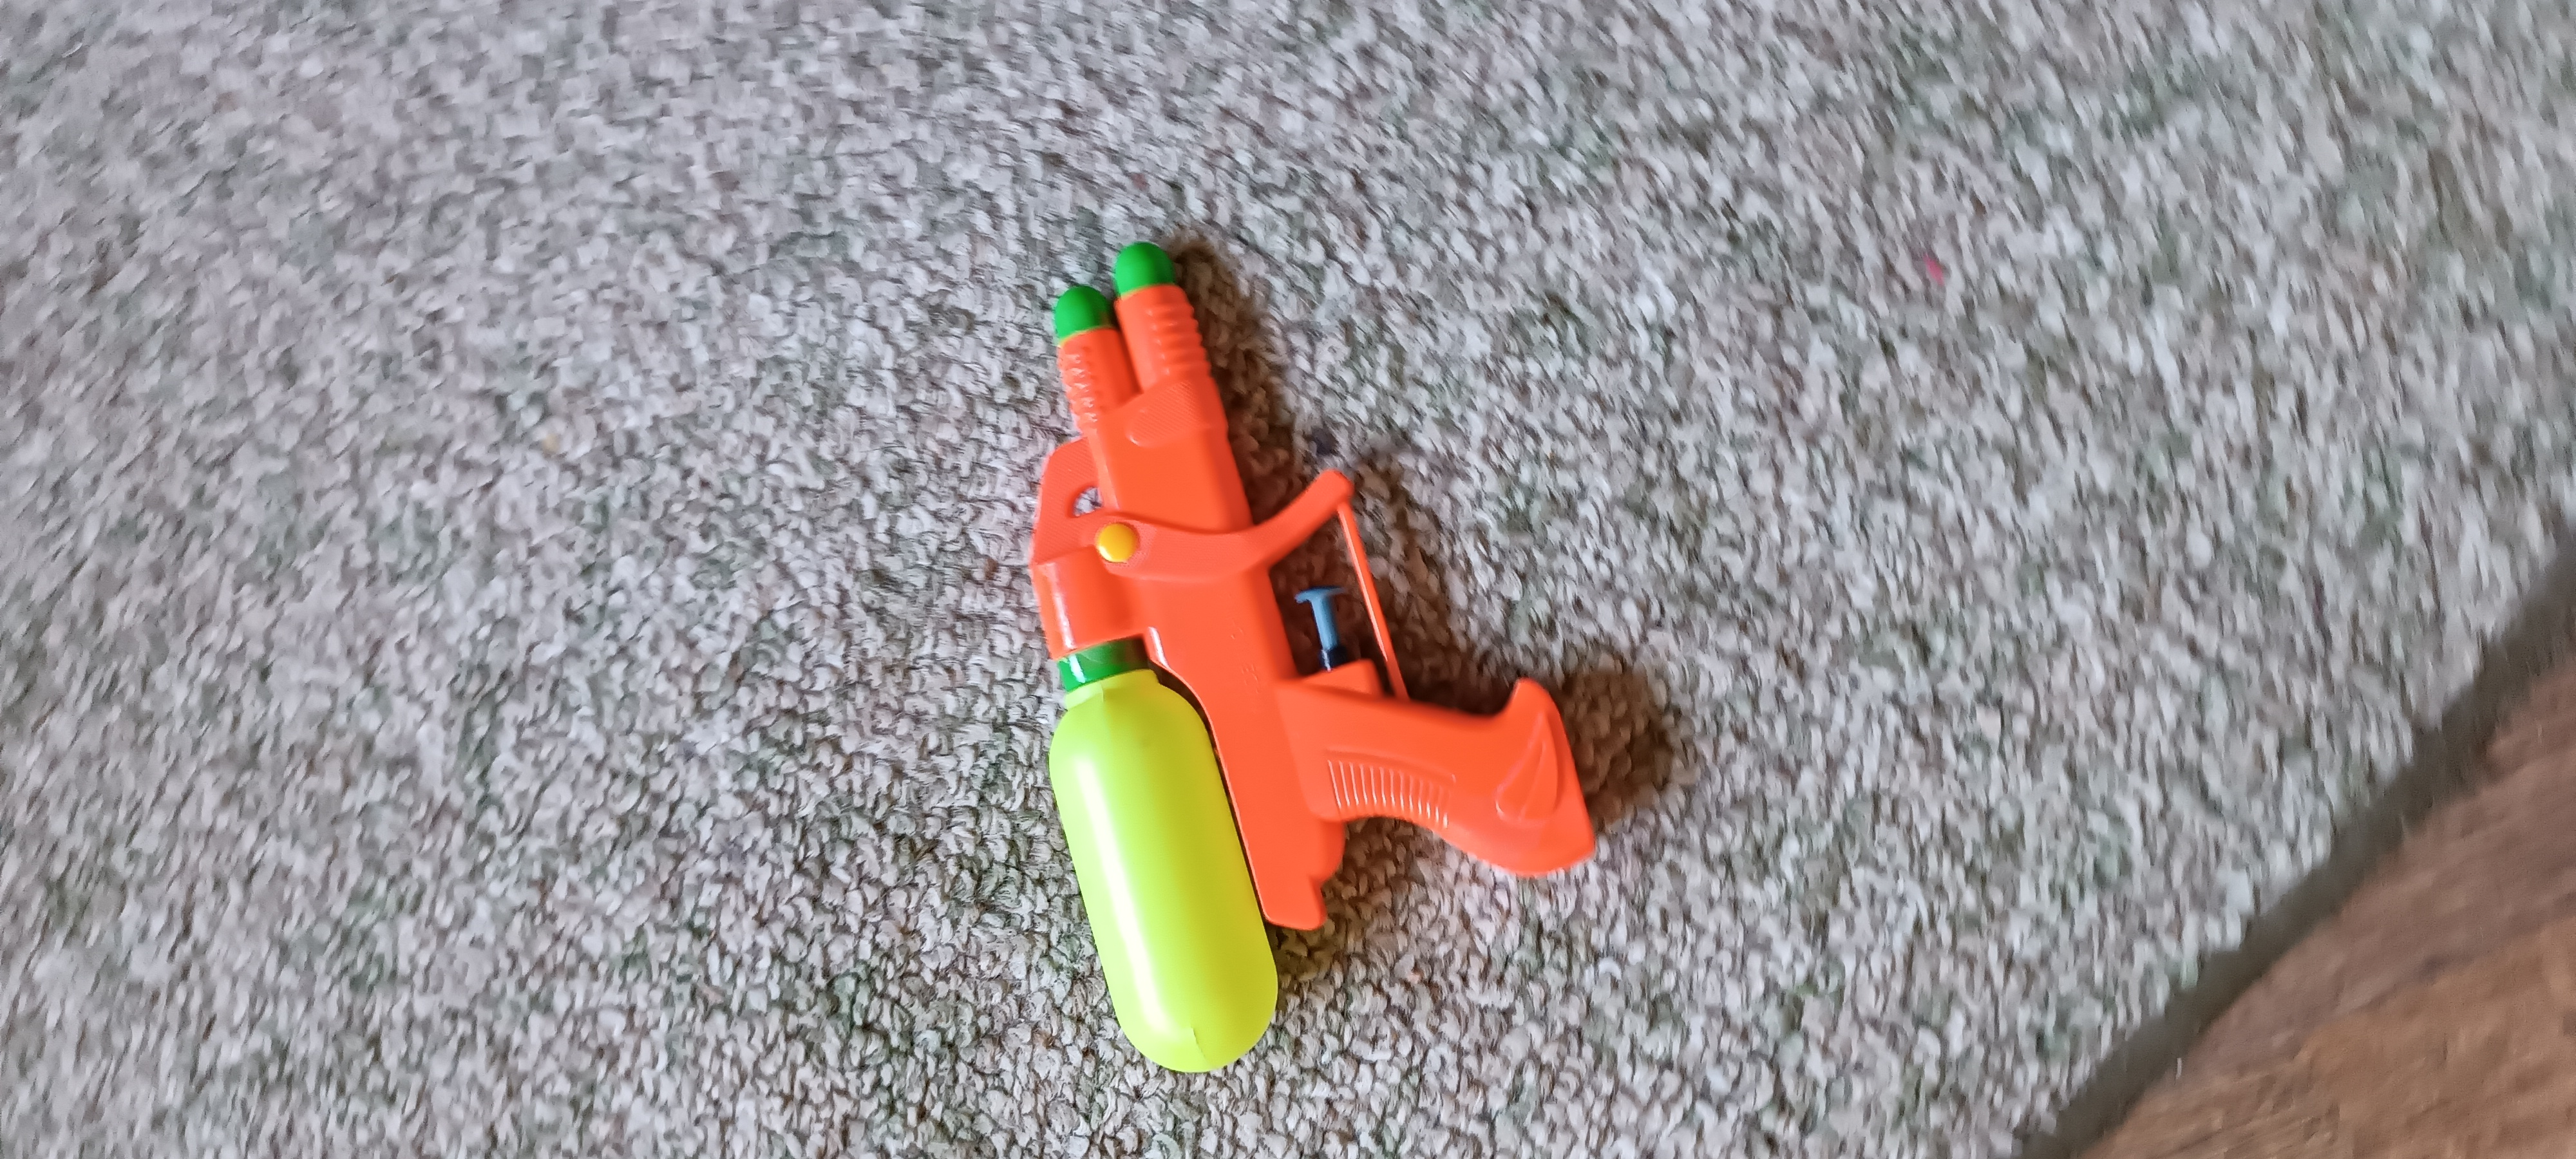Water Gun: (1028, 241, 1598, 1070)
